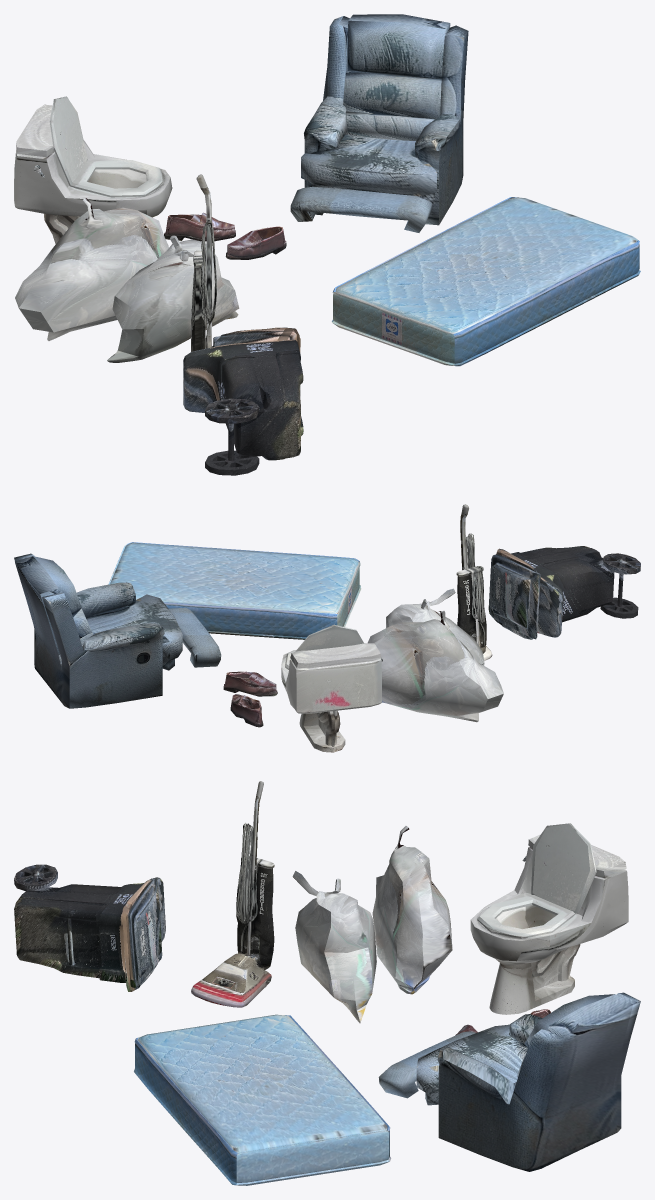
File: FREE_YarD_ART_colliders_DAK.glb
3 renders of one model, top to bottom at view 1: azimuth 30°, elevation 25°; view 2: azimuth 150°, elevation 25°; view 3: azimuth 270°, elevation 25°, orthographic. The views are drawn at different scales.
Visible parts, largest first — view 1: mattress, chair, trashcan_reduced, trashbag2, trashbag1, mattress.rt.side, recline, back, chair.back, toilet.001, seat, lid.1 (+6 smaller); view 2: mattress, chair, trashcan_reduced, trashbag2, chair.back, mattress.lft.side, toilet.back, bag, back, recline, trashbag1, toilet.001 (+7 smaller); view 3: mattress, chair.back, trashcan_reduced, trashbag2, trashbag1, chair, toilet.001, back, body, lid.1, mattress.rt.side, bag (+6 smaller).
Part boxes in pixels (left/top/right/bottom): mattress: left=332, top=197, right=639, bottom=365; chair: left=301, top=16, right=463, bottom=225; trashcan_reduced: left=183, top=327, right=303, bottom=475; trashbag2: left=15, top=198, right=168, bottom=340; trashbag1: left=107, top=235, right=239, bottom=362; mattress.rt.side: left=453, top=240, right=640, bottom=366; recline: left=290, top=186, right=432, bottom=232; back: left=16, top=104, right=172, bottom=216; chair.back: left=339, top=14, right=468, bottom=224; toilet.001: left=15, top=156, right=156, bottom=217; seat: left=70, top=160, right=164, bottom=197; lid.1: left=53, top=98, right=87, bottom=182; mattress: left=108, top=542, right=361, bottom=626; chair: left=33, top=556, right=182, bottom=708; trashcan_reduced: left=488, top=546, right=640, bottom=639; trashbag2: left=367, top=610, right=503, bottom=722; chair.back: left=14, top=553, right=69, bottom=708; mattress.lft.side: left=163, top=602, right=337, bottom=639; toilet.back: left=296, top=660, right=381, bottom=712; bag: left=456, top=566, right=486, bottom=653; back: left=281, top=643, right=381, bottom=682; recline: left=169, top=607, right=221, bottom=667; trashbag1: left=386, top=588, right=484, bottom=665; toilet.001: left=281, top=660, right=380, bottom=752; mattress: left=137, top=1014, right=389, bottom=1185; chair.back: left=437, top=993, right=640, bottom=1171; trashcan_reduced: left=14, top=864, right=165, bottom=991; trashbag2: left=372, top=826, right=452, bottom=994; trashbag1: left=292, top=871, right=376, bottom=1023; chair: left=416, top=992, right=640, bottom=1105; toilet.001: left=488, top=871, right=628, bottom=1014; back: left=470, top=834, right=626, bottom=961; body: left=191, top=781, right=271, bottom=1007; lid.1: left=532, top=823, right=589, bottom=910; mattress.rt.side: left=134, top=1038, right=237, bottom=1185; bag: left=237, top=856, right=274, bottom=970.
Size of what is drawn, in the model's own units: 11.31 by 3.97 by 11.23.
Materials: 10 (10 with a texture image).
